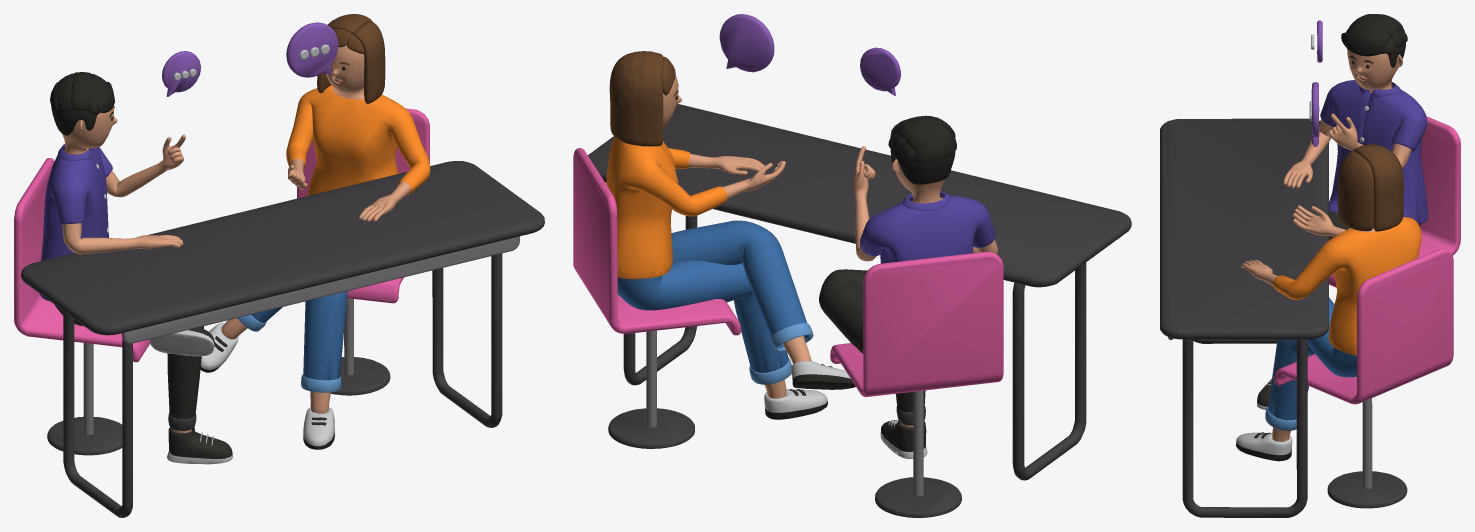
Rendered from talk1.glb.
The picture shows the model from 3 angles, left to right: view 1: azimuth 30°, elevation 25°; view 2: azimuth 150°, elevation 25°; view 3: azimuth 270°, elevation 25°; orthographic projection. The views are drawn at different scales.
Parts seen in each view (by area): view 1: conversation 7_primitive0; view 2: conversation 7_primitive0; view 3: conversation 7_primitive0.
Part boxes in pixels (left/top/right/bottom): conversation 7_primitive0: left=14, top=14, right=544, bottom=517; conversation 7_primitive0: left=573, top=14, right=1131, bottom=517; conversation 7_primitive0: left=1160, top=14, right=1460, bottom=517.
Size of the model in its own units: 0.9106 by 0.7513 by 0.541.
Materials: 1 (1 with a texture image).
